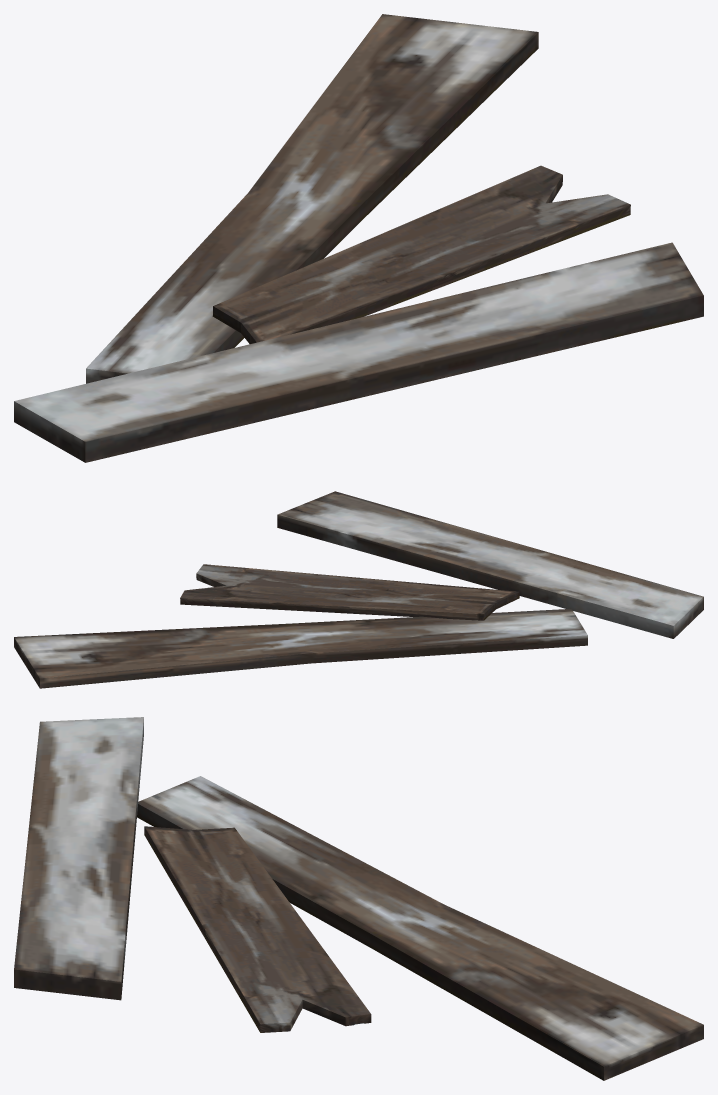
File: 2005_Item_mutou_6.FBX
The picture shows the model from 3 angles, top to bottom: view 1: azimuth 30°, elevation 25°; view 2: azimuth 150°, elevation 25°; view 3: azimuth 270°, elevation 25°; orthographic projection. The views are drawn at different scales.
Visible parts, largest first — view 1: 2005_Item_mutou_6; view 2: 2005_Item_mutou_6; view 3: 2005_Item_mutou_6.
Boxes of the visible parts, left/top/right/bottom form: 2005_Item_mutou_6: left=14, top=14, right=703, bottom=462; 2005_Item_mutou_6: left=14, top=491, right=703, bottom=688; 2005_Item_mutou_6: left=14, top=717, right=703, bottom=1080.
Bounding box in the file's own units: 162 × 8.57 × 141.
